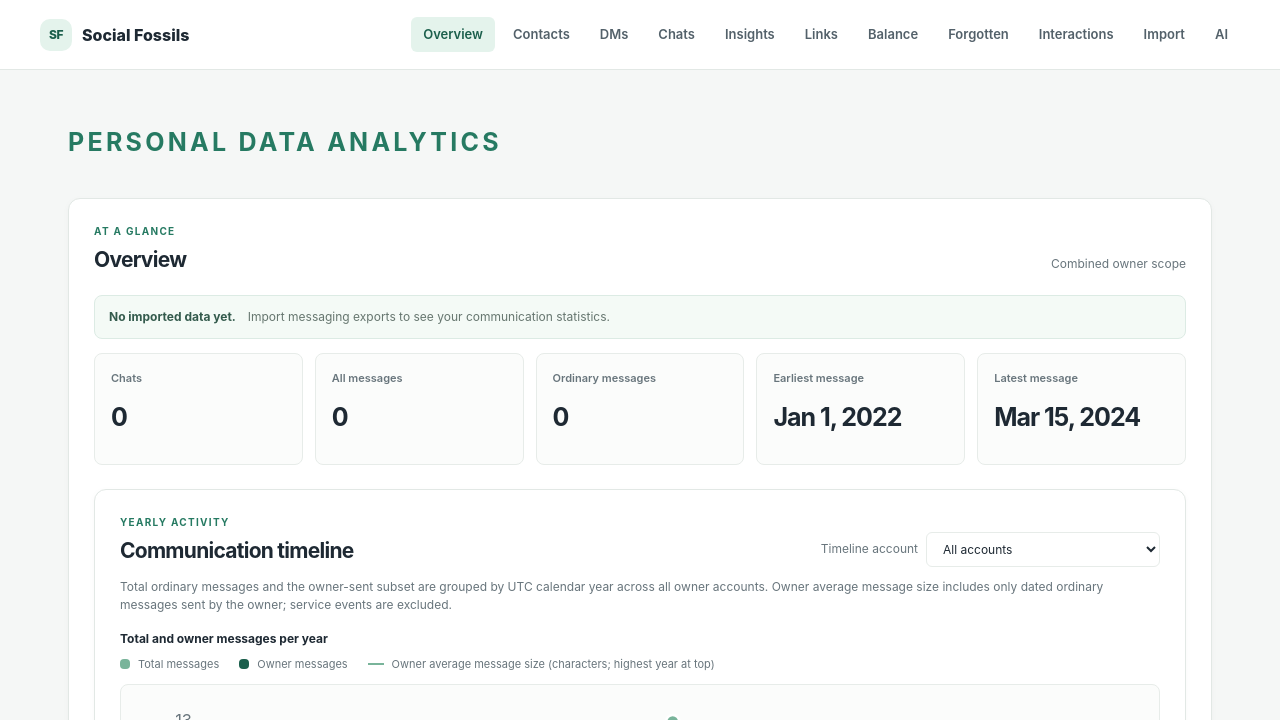
Scenario: dashboard › shows the no-import guidance when analytics contain no imported data
The image size is (1280, 720).
Expected: the text "No imported data yet." is shown, [109,308,236,326]
Click the tab "Chats": [677, 35] box [646,17,707,52]
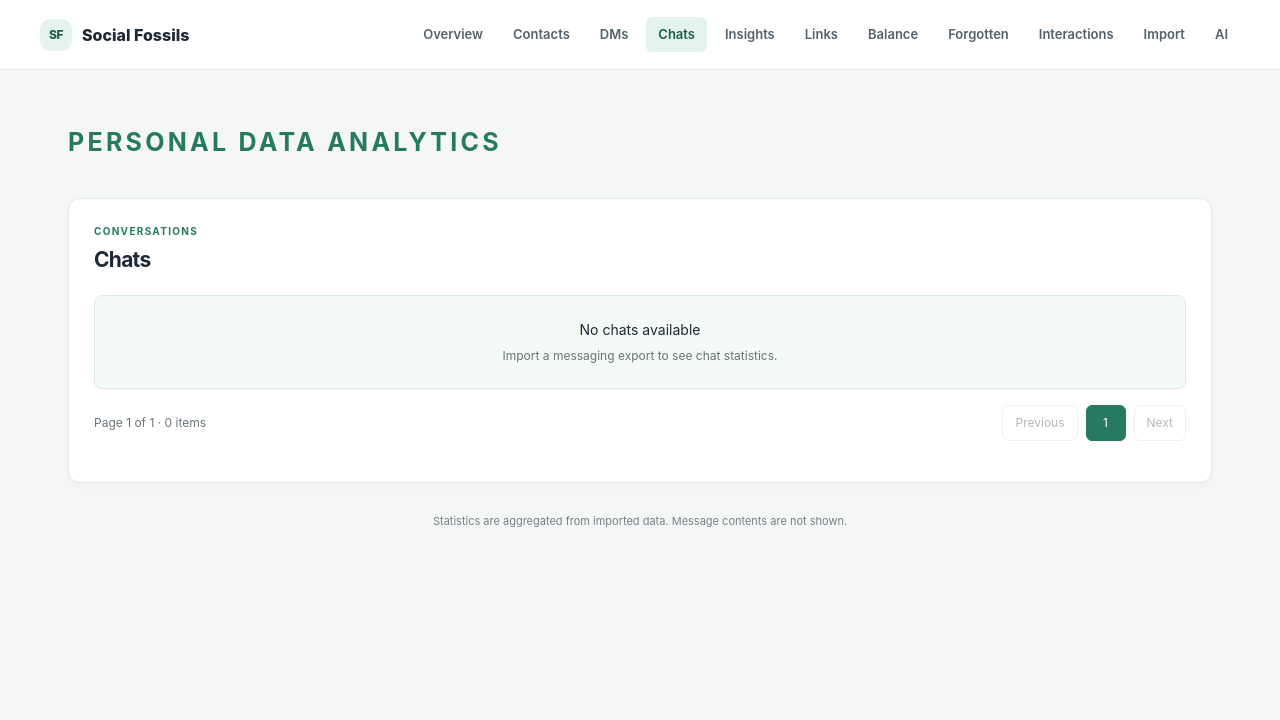
Now the panel "Chats" is shown, box [68,198,1212,483]
Now the text "Import a messaging export to see chat statistics." is shown, box [502,348,778,363]
Click the tab "Contacts": [541, 35] box [501,17,582,52]
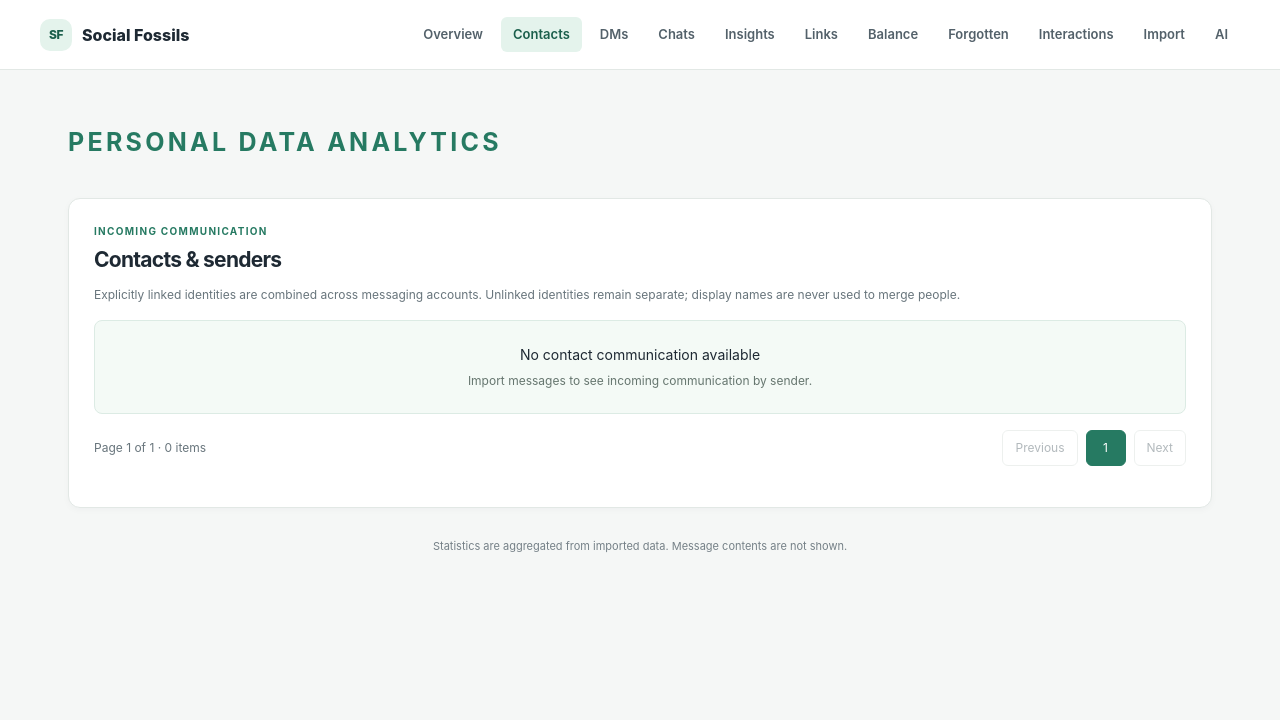
Now the panel "Contacts" is shown, box [68,198,1212,508]
Now the text "Import messages to see incoming communication by sender." is shown, box [468,373,812,388]
Click the tab "Forgotten": [978, 35] box [936,17,1021,52]
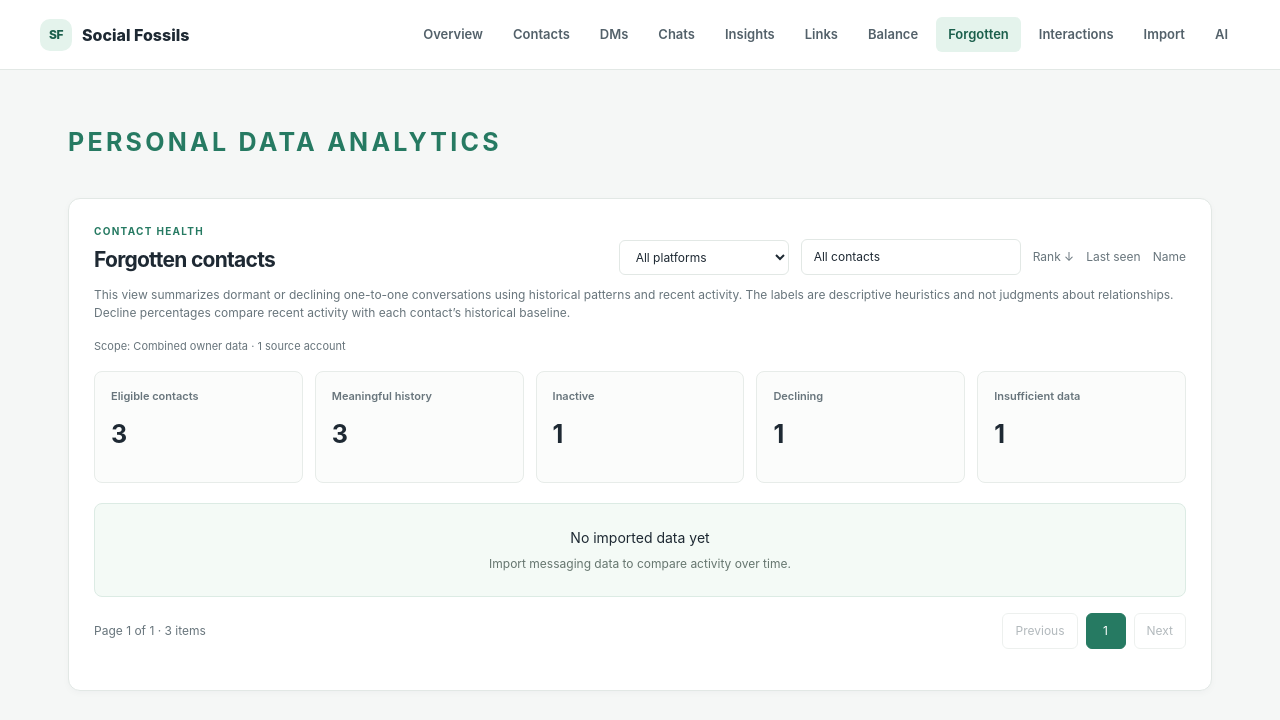
Now the panel "Forgotten" is shown
Now the heading "No imported data yet" is shown, box [570,528,710,546]
